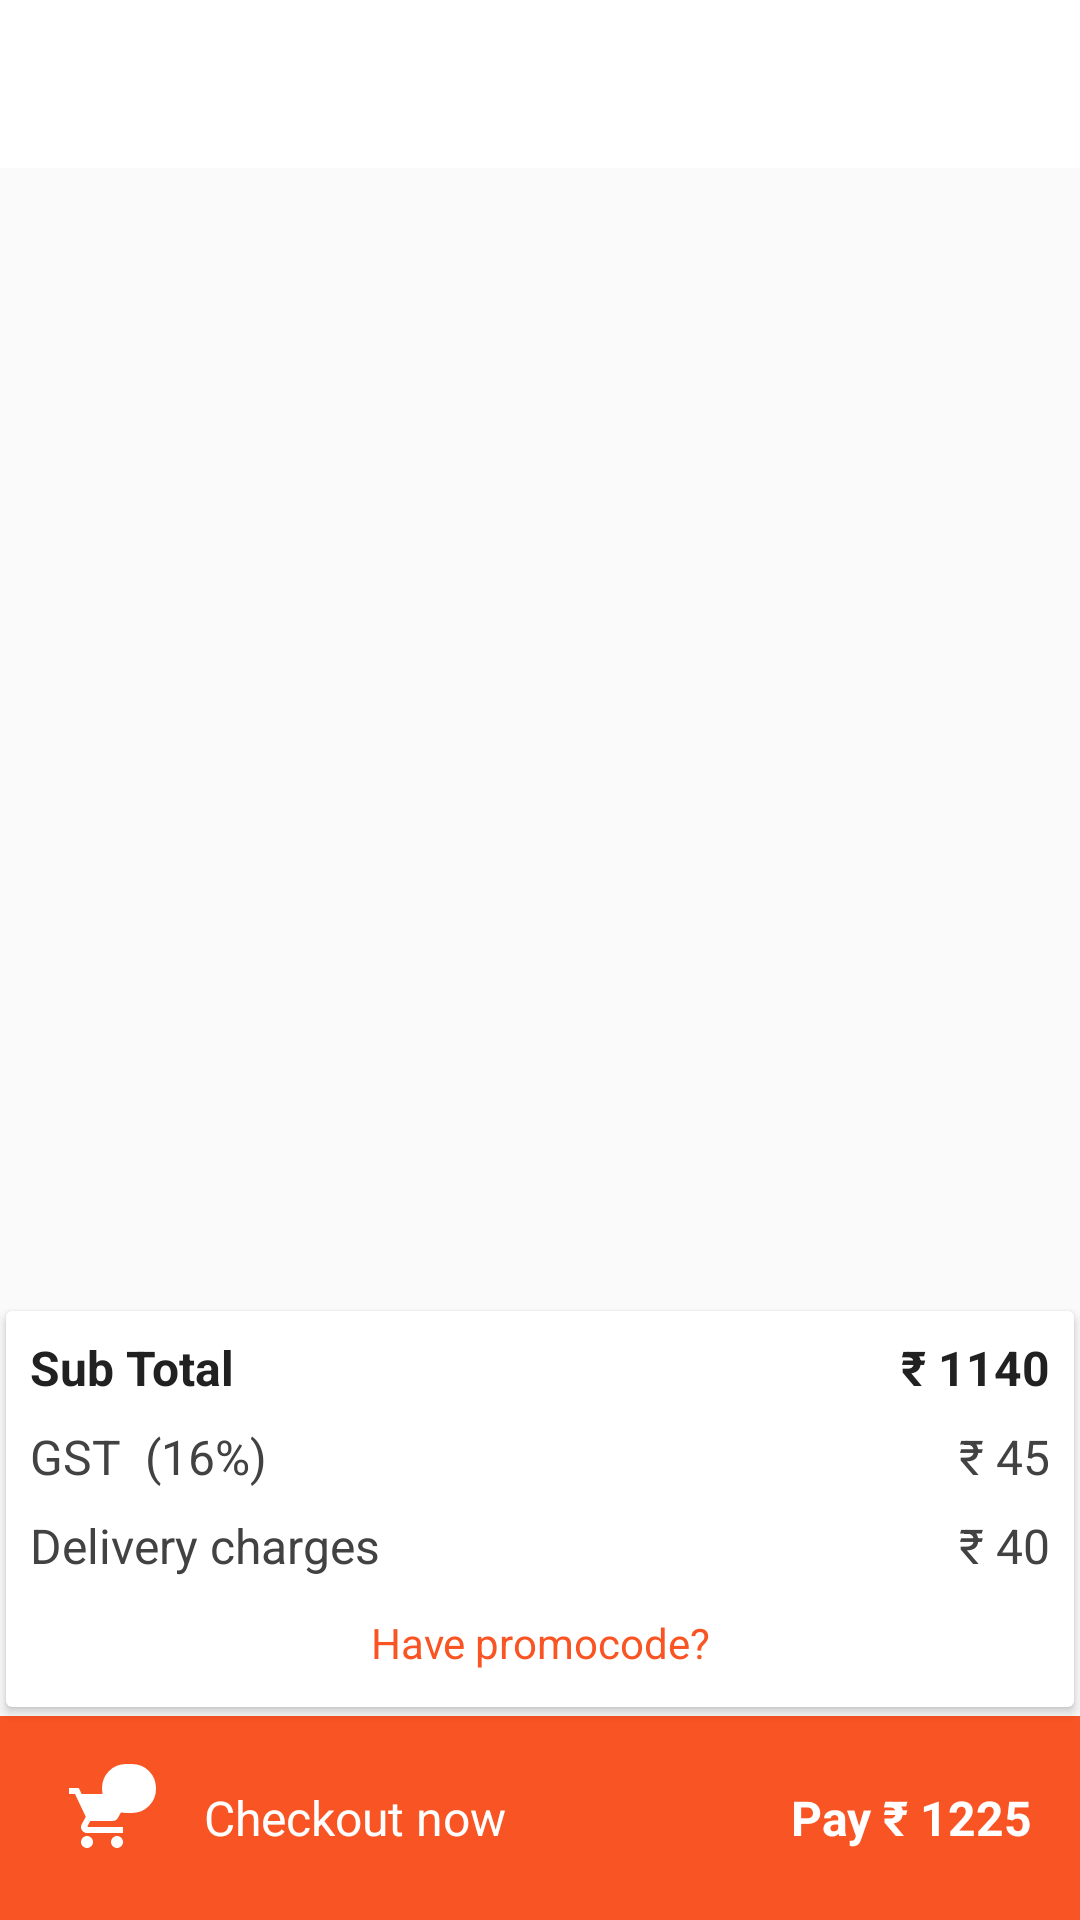

Named icons in this screenshot (1080px x 1920px) and their centers, (x,y):
shopping cart: (103,1815)
